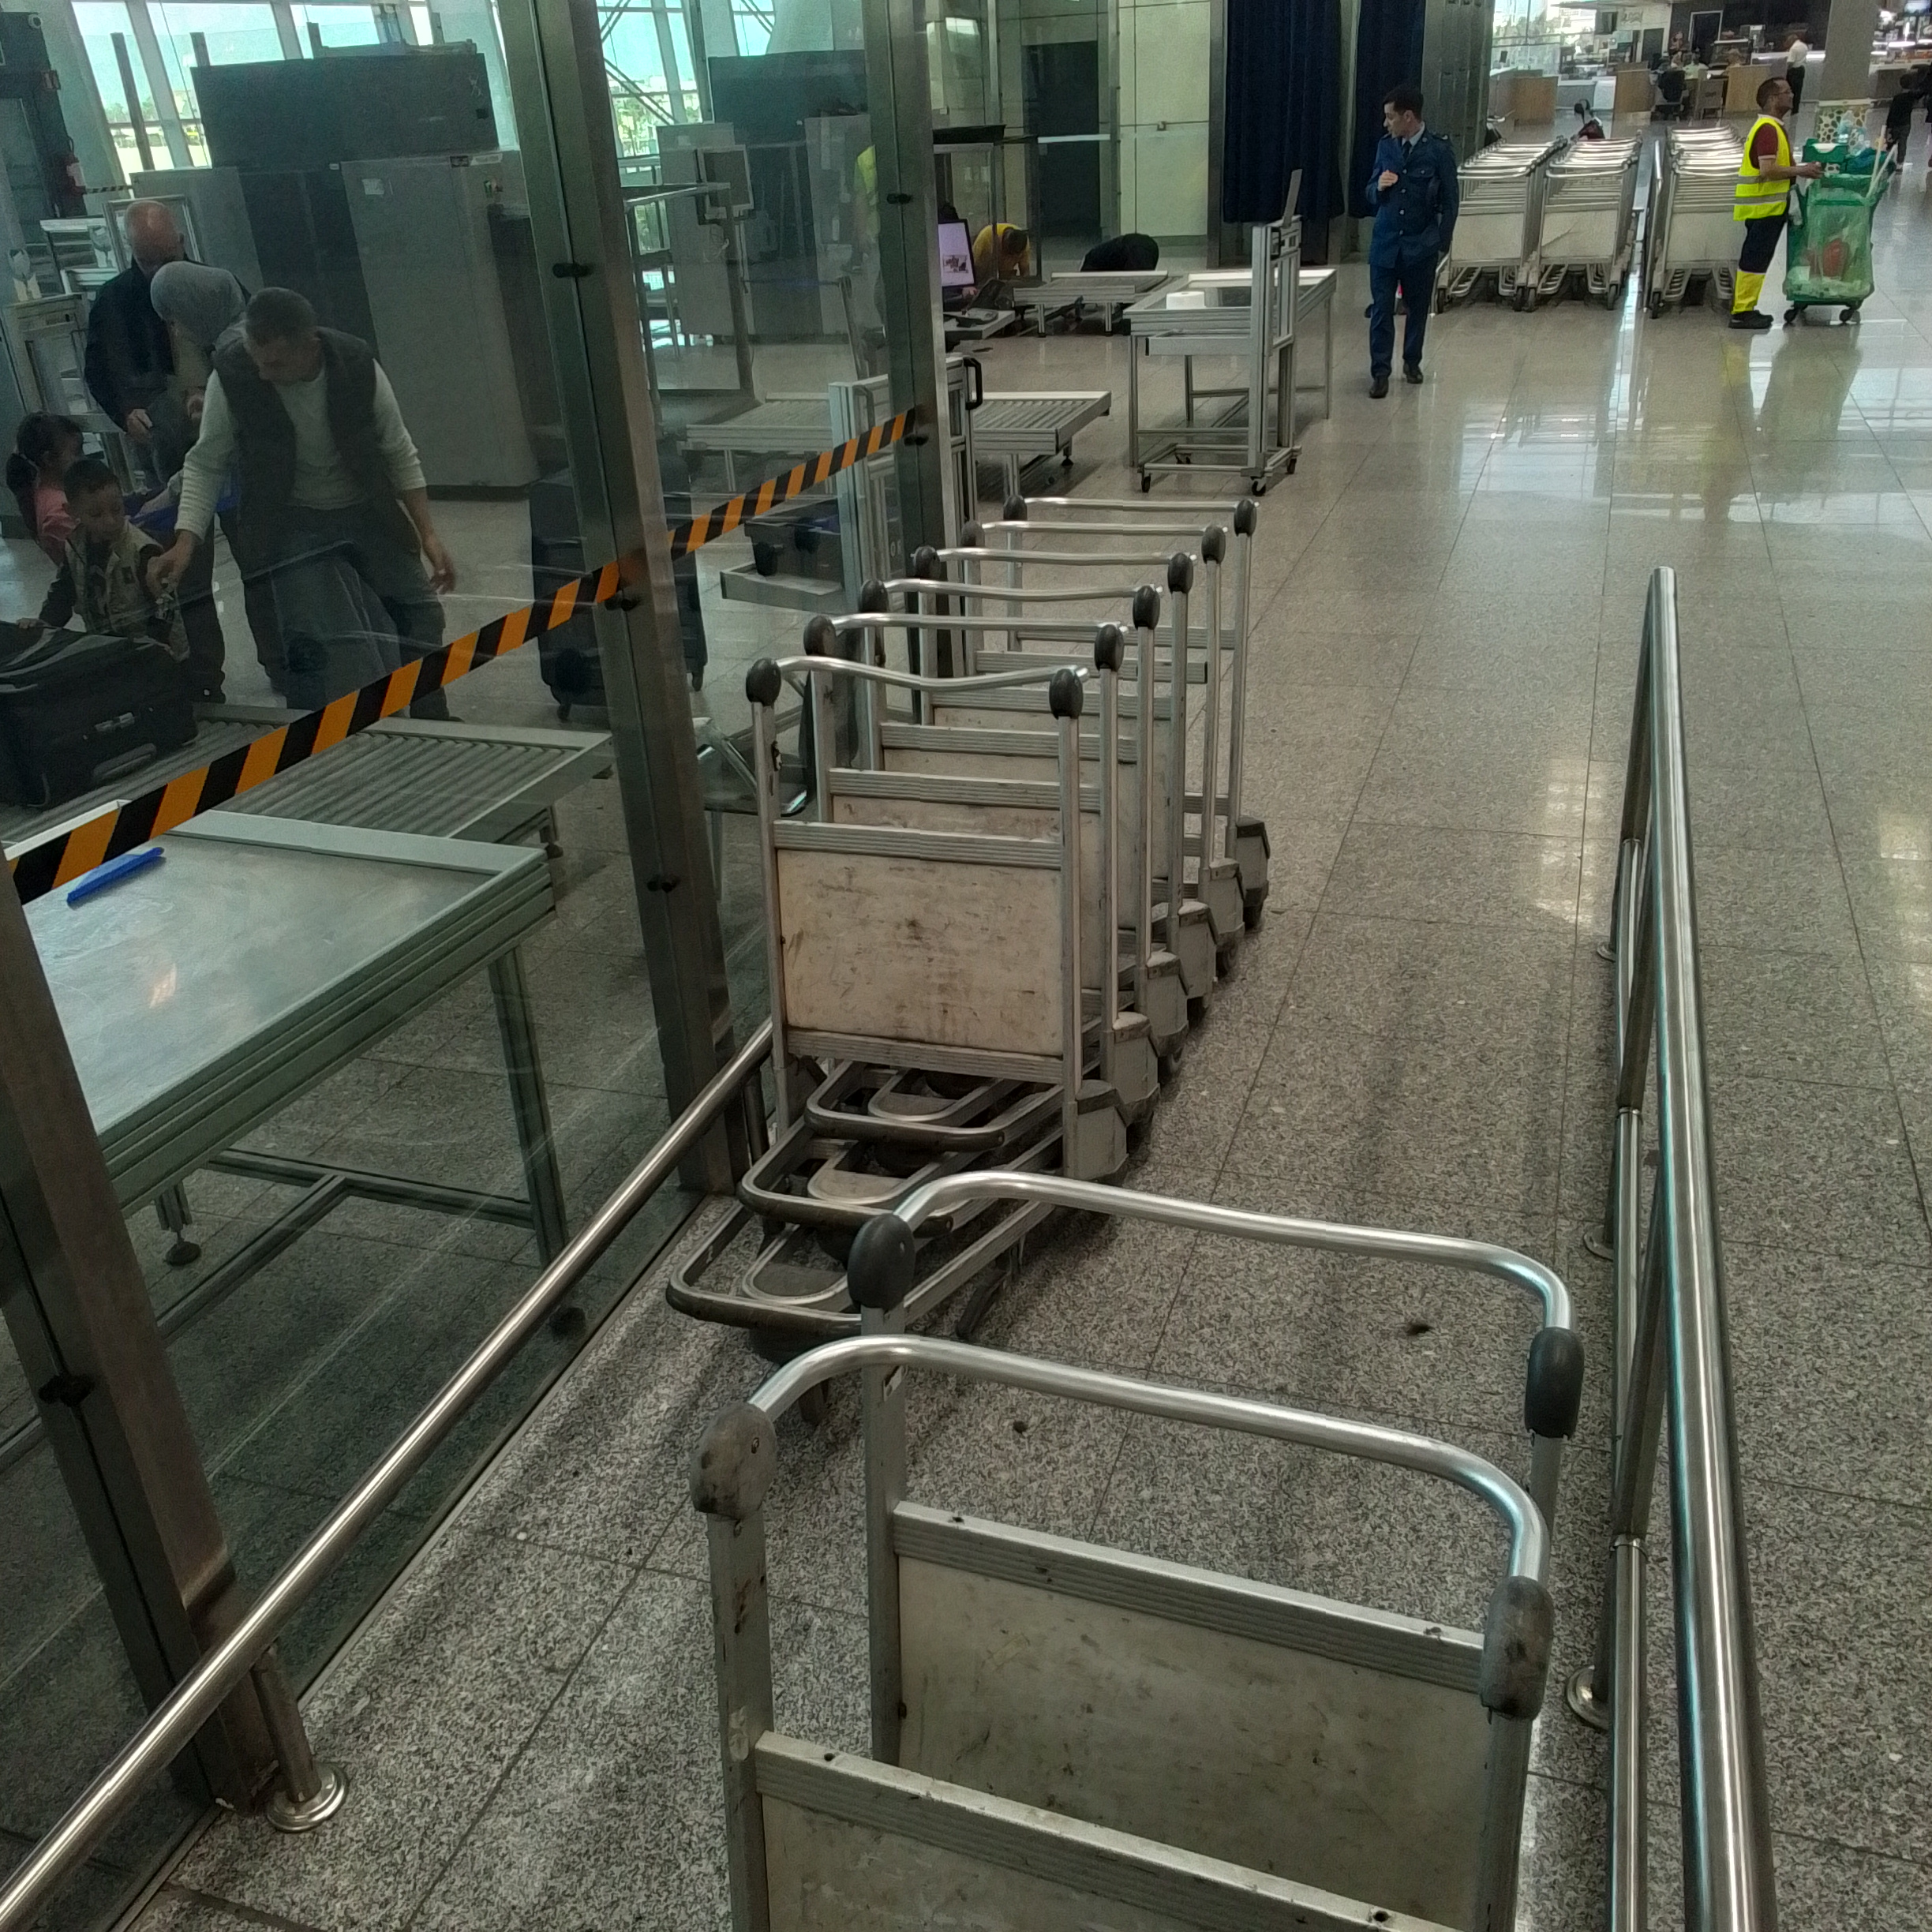airport-trolley: (706, 1336, 1555, 1918), (844, 1168, 1614, 1718), (685, 651, 1118, 1346), (787, 616, 1152, 1058), (856, 580, 1187, 1042), (899, 541, 1210, 993), (961, 513, 1240, 966), (989, 492, 1261, 927)
